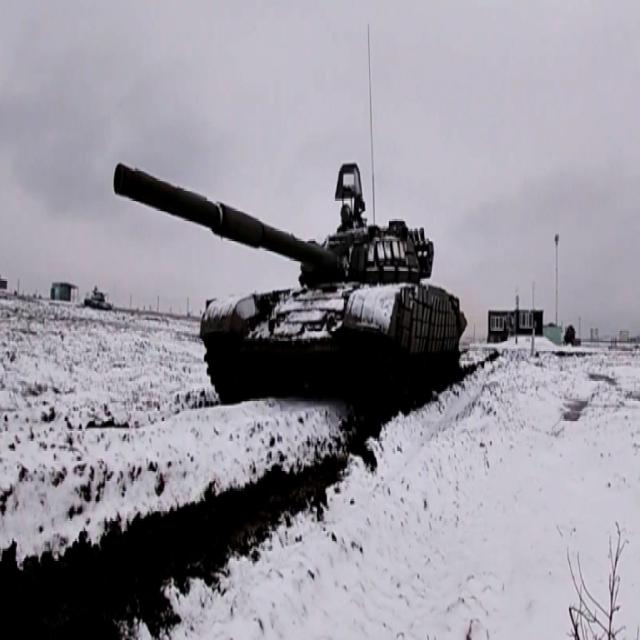TANK: (112, 140, 467, 401), (84, 286, 112, 316)
